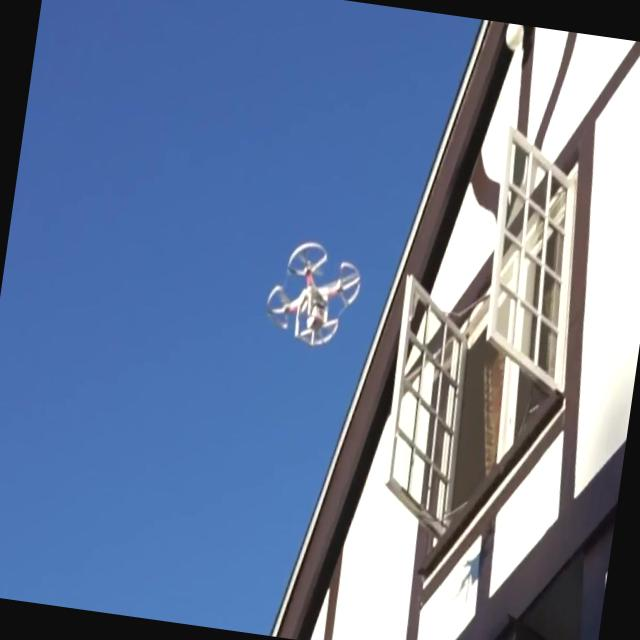drone: (262, 234, 366, 354)
